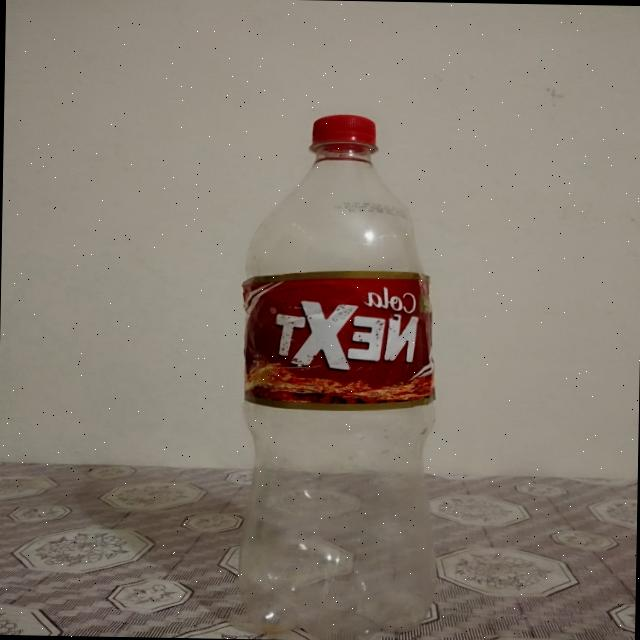bottle: (237, 111, 442, 640)
cap: (310, 113, 378, 148)
label: (239, 266, 436, 409)
